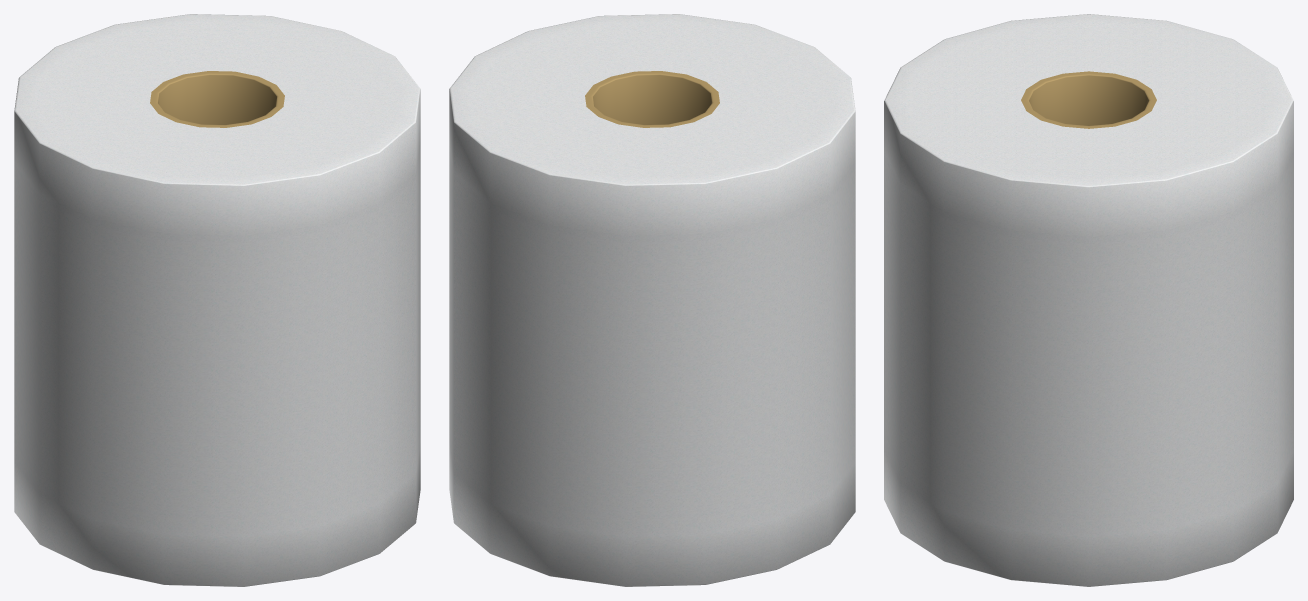
File: full toilet paper.FBX
3 views of the same model, side by side, from view 1: azimuth 30°, elevation 25°; view 2: azimuth 150°, elevation 25°; view 3: azimuth 270°, elevation 25° (orthographic).
Parts seen in each view (by area): view 1: Cylinder002; view 2: Cylinder002; view 3: Cylinder002.
Boxes of the visible parts, left/top/right/bottom form: Cylinder002: left=14, top=14, right=420, bottom=586; Cylinder002: left=449, top=14, right=855, bottom=586; Cylinder002: left=884, top=14, right=1293, bottom=586.
Bounding box in the file's own units: 27.8 × 30 × 27.8.
2 materials, 2 textured.
